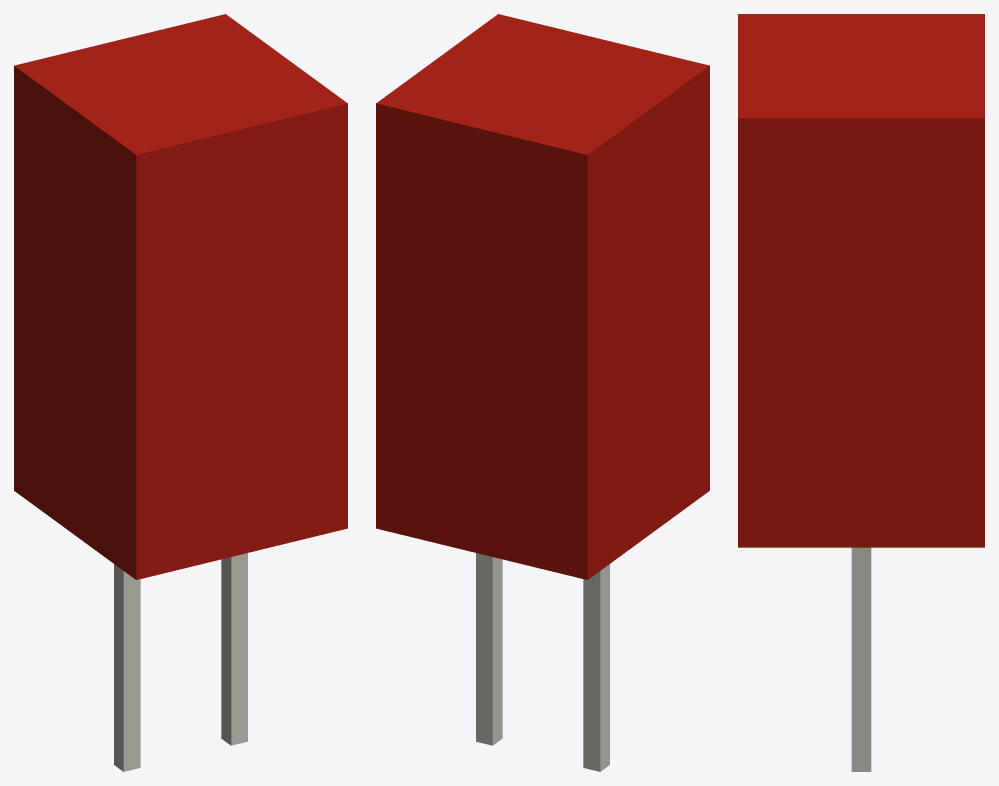
Rendered from kc-led_rectangular_w5.0mm_h5.0mm.glb.
3 views of the same model, side by side, from view 1: azimuth 30°, elevation 25°; view 2: azimuth 150°, elevation 25°; view 3: azimuth 270°, elevation 25° (orthographic).
Visible parts, largest first — view 1: 0.4166666666666667_0_0_0, 0.6666666666666666_0.6666666666666666_0.5833333333333334_0.8; view 2: 0.4166666666666667_0_0_0, 0.6666666666666666_0.6666666666666666_0.5833333333333334_0.8; view 3: 0.4166666666666667_0_0_0, 0.6666666666666666_0.6666666666666666_0.5833333333333334_0.8.
Part boxes in pixels (x1=…): 0.4166666666666667_0_0_0: x1=14, y1=14, x2=347, y2=579; 0.6666666666666666_0.6666666666666666_0.5833333333333334_0.8: x1=114, y1=553, x2=247, y2=771; 0.4166666666666667_0_0_0: x1=376, y1=14, x2=709, y2=579; 0.6666666666666666_0.6666666666666666_0.5833333333333334_0.8: x1=476, y1=553, x2=609, y2=771; 0.4166666666666667_0_0_0: x1=738, y1=14, x2=984, y2=547; 0.6666666666666666_0.6666666666666666_0.5833333333333334_0.8: x1=851, y1=547, x2=871, y2=771.
Bounding box in the file's own units: 0.5 × 1.51 × 0.5.
